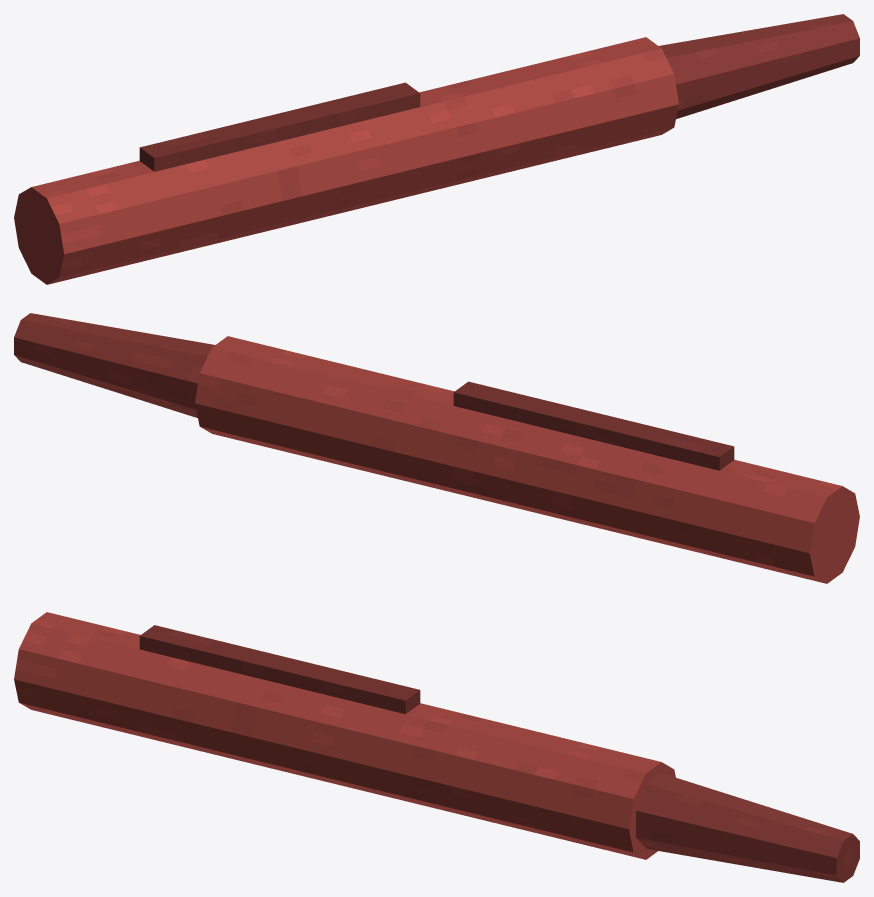
File: red_pen.glb
The picture shows the model from 3 angles, top to bottom: view 1: azimuth 30°, elevation 25°; view 2: azimuth 150°, elevation 25°; view 3: azimuth 330°, elevation 25°; orthographic projection.
Parts seen in each view (by area): view 1: block_main barrel, block_cap or tip, block_clip; view 2: block_main barrel, block_cap or tip, block_clip; view 3: block_main barrel, block_cap or tip, block_clip.
Part boxes in pixels (bbox=[...]): block_main barrel: bbox=[14, 37, 678, 284]; block_cap or tip: bbox=[659, 14, 859, 118]; block_clip: bbox=[139, 82, 420, 171]; block_main barrel: bbox=[195, 336, 859, 583]; block_cap or tip: bbox=[14, 313, 214, 417]; block_clip: bbox=[453, 381, 734, 470]; block_main barrel: bbox=[14, 612, 675, 859]; block_cap or tip: bbox=[636, 773, 859, 882]; block_clip: bbox=[139, 625, 420, 714].
Size of the model in its own units: 0.13 by 0.0154 by 0.014.
1 material, 1 textured.
